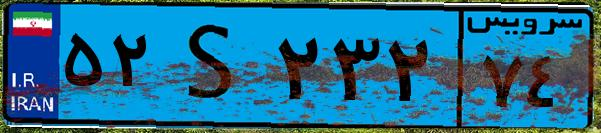2: (270, 28, 330, 110), (385, 28, 445, 110), (110, 28, 158, 98)
3: (330, 28, 385, 110)
4: (525, 38, 570, 115)
5: (57, 26, 110, 100)
7: (475, 38, 525, 113)
S: (158, 12, 270, 120)
